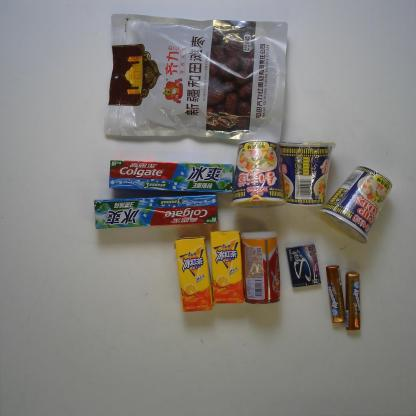Candy: (326, 264, 346, 324), (344, 270, 362, 331)
Canned Food: (239, 229, 282, 307)
Dried Food: (104, 12, 289, 144)
Drink: (173, 235, 215, 314), (210, 227, 245, 305)
Gum: (285, 242, 323, 289)
Instant Noodles: (318, 164, 394, 244), (230, 138, 288, 210), (277, 139, 337, 207)
Personal Hygiene: (93, 193, 220, 231), (108, 158, 235, 195)
